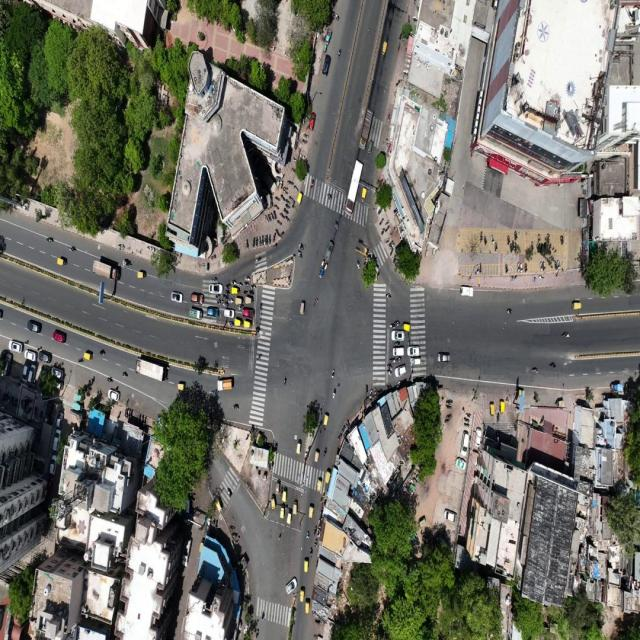3W: (378, 39, 390, 59), (135, 266, 148, 282), (83, 349, 96, 363), (56, 255, 68, 268), (360, 188, 369, 205), (571, 299, 583, 311), (175, 379, 186, 392), (295, 439, 302, 458), (302, 554, 309, 573), (299, 296, 305, 318), (368, 141, 377, 155), (280, 503, 286, 523), (308, 502, 315, 519), (317, 476, 323, 495), (323, 412, 330, 428), (275, 478, 281, 496), (293, 499, 299, 517), (287, 510, 293, 528), (489, 400, 495, 417), (282, 486, 288, 503), (315, 448, 321, 465), (500, 399, 506, 414), (402, 322, 411, 332), (245, 296, 254, 306), (297, 191, 303, 206), (231, 287, 241, 295), (270, 495, 275, 509), (325, 470, 330, 484), (236, 296, 243, 306), (243, 320, 252, 327), (235, 319, 242, 326)
Cars: (108, 387, 125, 409), (443, 505, 459, 527), (51, 327, 68, 347), (459, 281, 475, 301), (460, 431, 472, 456), (434, 349, 453, 364), (167, 289, 184, 305), (188, 290, 205, 306), (26, 318, 42, 334), (47, 454, 58, 477), (52, 429, 62, 454), (322, 53, 331, 80), (308, 110, 319, 132), (55, 409, 67, 429), (16, 360, 27, 381), (49, 366, 64, 379), (188, 307, 204, 319), (8, 340, 22, 353), (206, 305, 220, 318), (38, 350, 51, 363), (391, 328, 405, 340), (28, 364, 37, 382), (241, 307, 255, 318), (406, 346, 421, 356), (208, 284, 223, 293), (395, 364, 408, 374), (24, 349, 37, 359), (223, 308, 235, 318), (392, 347, 405, 356), (410, 357, 422, 366)
M2W: (561, 331, 573, 341), (45, 234, 55, 246), (120, 256, 130, 268), (119, 367, 128, 379), (69, 243, 78, 254), (336, 47, 343, 60), (244, 238, 250, 252), (322, 446, 328, 458), (75, 357, 84, 365), (356, 259, 362, 271), (313, 297, 319, 308), (494, 241, 499, 254), (310, 178, 315, 191), (507, 307, 514, 316), (256, 353, 263, 362), (330, 368, 335, 380), (331, 387, 337, 397), (107, 375, 113, 385), (327, 192, 333, 202), (306, 529, 310, 543), (559, 235, 565, 244), (100, 348, 106, 357), (256, 254, 262, 263), (280, 194, 286, 203), (475, 263, 479, 276), (490, 233, 494, 246), (227, 486, 231, 499), (282, 379, 287, 389), (333, 220, 338, 230), (385, 292, 392, 299), (480, 228, 483, 244), (261, 611, 265, 623), (234, 403, 240, 411), (299, 242, 305, 250), (479, 261, 482, 276), (506, 234, 510, 245), (314, 538, 318, 549), (539, 273, 545, 280), (388, 322, 395, 328), (245, 274, 251, 281), (230, 279, 237, 285), (222, 302, 228, 309), (228, 321, 234, 328), (296, 250, 303, 256), (514, 230, 518, 240), (554, 261, 558, 271), (287, 180, 295, 185), (286, 214, 290, 224), (285, 203, 290, 211), (484, 233, 487, 246), (268, 234, 271, 247), (505, 262, 508, 274), (517, 262, 520, 274), (524, 262, 527, 274), (520, 262, 523, 274), (531, 242, 535, 251), (446, 404, 452, 410), (465, 412, 471, 418), (464, 422, 470, 428), (390, 356, 396, 362), (397, 357, 403, 363), (386, 370, 392, 376), (313, 524, 316, 536), (228, 299, 234, 305), (224, 282, 230, 288), (224, 290, 230, 296), (242, 289, 248, 295), (252, 237, 255, 249), (258, 236, 261, 248), (264, 215, 268, 224), (273, 231, 276, 243), (280, 211, 284, 220), (274, 204, 280, 210), (290, 194, 294, 203), (291, 168, 297, 174), (304, 132, 310, 138), (302, 139, 308, 145), (395, 320, 400, 327), (275, 195, 280, 202), (293, 185, 298, 192), (540, 261, 543, 272), (497, 411, 500, 422), (310, 547, 313, 558), (446, 399, 454, 403), (543, 261, 546, 271), (445, 418, 451, 423), (250, 284, 256, 289), (263, 236, 266, 246), (292, 157, 297, 163), (379, 218, 383, 225), (381, 229, 385, 236), (537, 233, 540, 242), (546, 232, 549, 241), (249, 290, 254, 295), (387, 364, 393, 368), (211, 278, 217, 282), (239, 281, 243, 287), (447, 414, 454, 417), (271, 213, 274, 220), (244, 283, 249, 287), (390, 249, 393, 255), (386, 240, 390, 244), (215, 295, 219, 298), (386, 220, 390, 223)
Truck: (135, 352, 168, 388), (345, 160, 365, 217), (359, 107, 379, 158), (91, 256, 119, 286), (217, 374, 235, 393)
